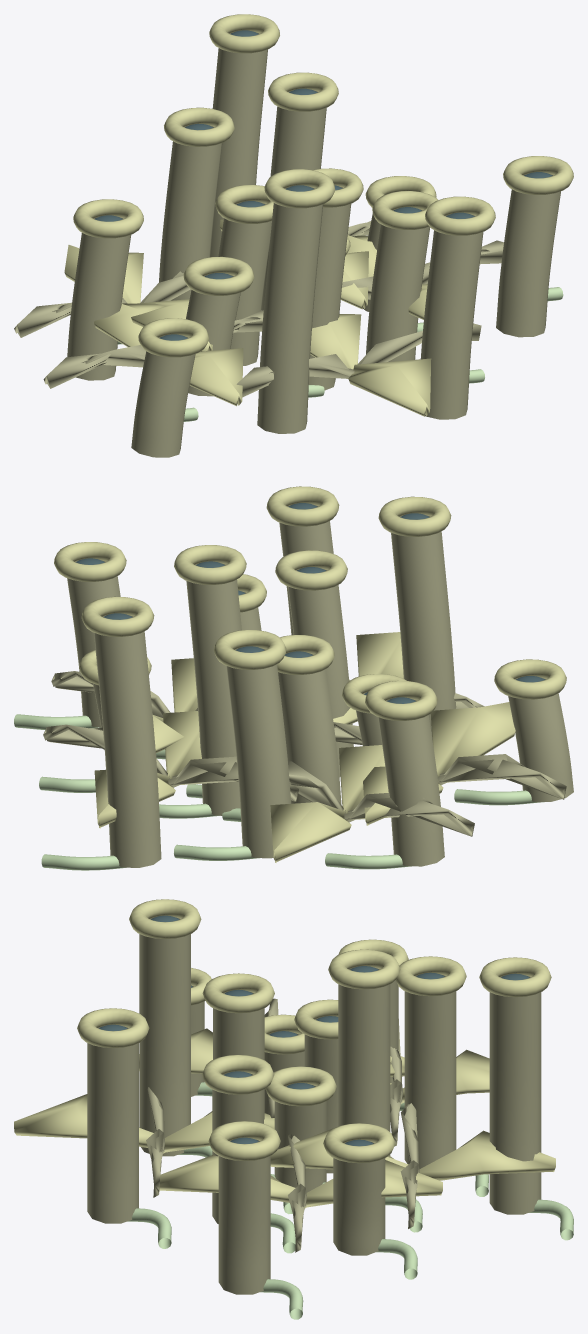
File: bio_thermal_colony_25_near.glb
3 renders of one model, top to bottom at view 1: azimuth 30°, elevation 25°; view 2: azimuth 150°, elevation 25°; view 3: azimuth 270°, elevation 25°, orthographic. The views are drawn at different scales.
Visible parts, largest first — view 1: Chimney biofilm.007, Chimney biofilm.010, Chimney biofilm.013, Chimney biofilm.006, Chimney biofilm.011, Chimney biofilm.009, Chimney biofilm.005, Low buttress leaf.009, Chimney biofilm.012, Low buttress leaf.017, Chimney biofilm.001, Chimney biofilm.002 (+22 smaller); view 2: Chimney biofilm.011, Chimney biofilm.006, Chimney biofilm.007, Chimney biofilm.003, Chimney biofilm.009, Chimney biofilm.001, Low buttress leaf.005, Low buttress leaf.017, Chimney biofilm.012, Chimney biofilm.002, Low buttress leaf.016, Low buttress leaf.004 (+28 smaller); view 3: Chimney biofilm.011, Chimney biofilm.007, Chimney biofilm.010, Chimney biofilm.006, Chimney biofilm.003, Chimney biofilm.013, Chimney biofilm.008, Low buttress leaf.013, Low buttress leaf.001, Low buttress leaf.009, Chimney biofilm, Chimney biofilm.002 (+30 smaller).
Boxes of the visible parts, box(x1,y1,x2,y2) form: Chimney biofilm.007: box(257, 187, 323, 433); Chimney biofilm.010: box(420, 215, 483, 419); Chimney biofilm.013: box(496, 174, 560, 337); Chimney biofilm.006: box(159, 126, 222, 300); Chimney biofilm.011: box(210, 33, 267, 257); Chimney biofilm.009: box(67, 218, 131, 380); Chimney biofilm.005: box(366, 209, 430, 361); Low buttress leaf.009: box(310, 314, 431, 416); Chimney biofilm.012: box(131, 337, 195, 457); Low buttress leaf.017: box(94, 303, 243, 406); Chimney biofilm.001: box(218, 203, 271, 365); Chimney biofilm.002: box(308, 187, 351, 390); Chimney biofilm.011: box(94, 615, 161, 867); Chimney biofilm.006: box(226, 648, 290, 858); Chimney biofilm.007: box(391, 515, 456, 737); Chimney biofilm.003: box(186, 564, 241, 815); Chimney biofilm.009: box(378, 700, 444, 866); Chimney biofilm.001: box(278, 653, 341, 804); Low buttress leaf.005: box(270, 745, 384, 862); Low buttress leaf.017: box(363, 702, 515, 825); Chimney biofilm.012: box(508, 678, 573, 802); Chimney biofilm.002: box(288, 569, 353, 776); Low buttress leaf.016: box(333, 722, 566, 799); Low buttress leaf.004: box(288, 761, 474, 836); Chimney biofilm.011: box(489, 976, 541, 1214); Chimney biofilm.007: box(139, 918, 190, 1156); Chimney biofilm.010: box(87, 1027, 138, 1223); Chimney biofilm.006: box(404, 975, 456, 1169); Chimney biofilm.003: box(338, 968, 390, 1155); Chimney biofilm.013: box(218, 1140, 270, 1294); Chimney biofilm.008: box(333, 1142, 385, 1255); Low buttress leaf.013: box(270, 1128, 555, 1180); Low buttress leaf.001: box(159, 1155, 442, 1208); Low buttress leaf.009: box(14, 1094, 274, 1153); Chimney biofilm: box(274, 1085, 326, 1192); Chimney biofilm.002: box(213, 992, 264, 1119).
Size of the model in its own units: 2.38 by 1.07 by 2.16.
